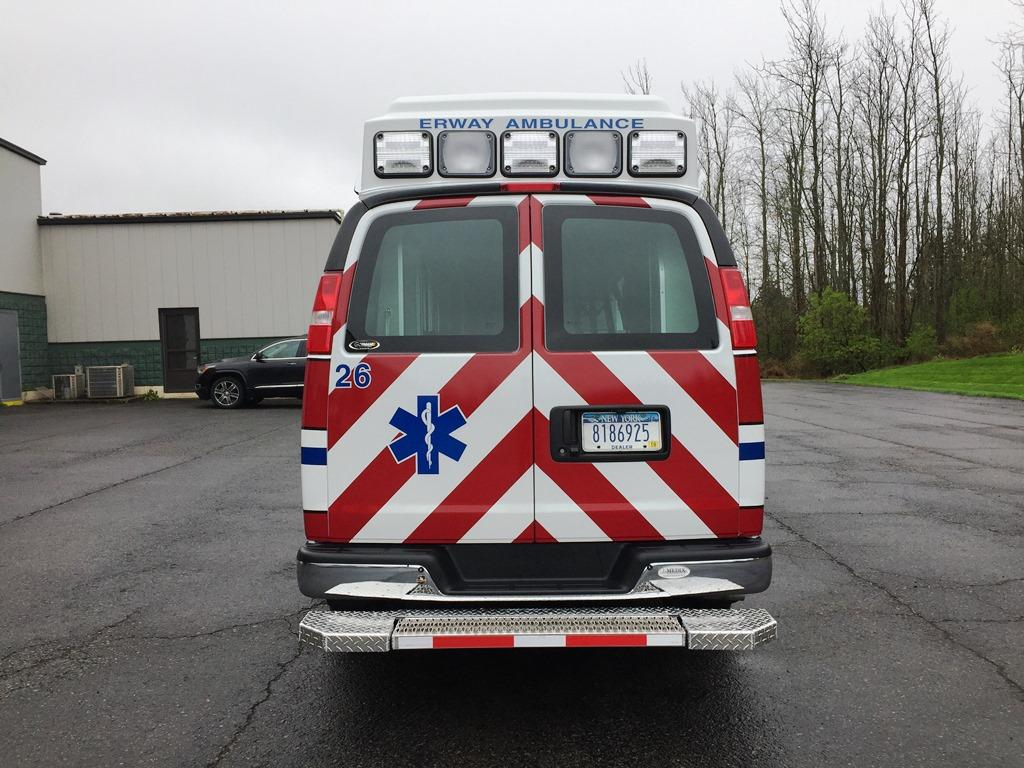ambulance_off: (296, 93, 773, 667)
